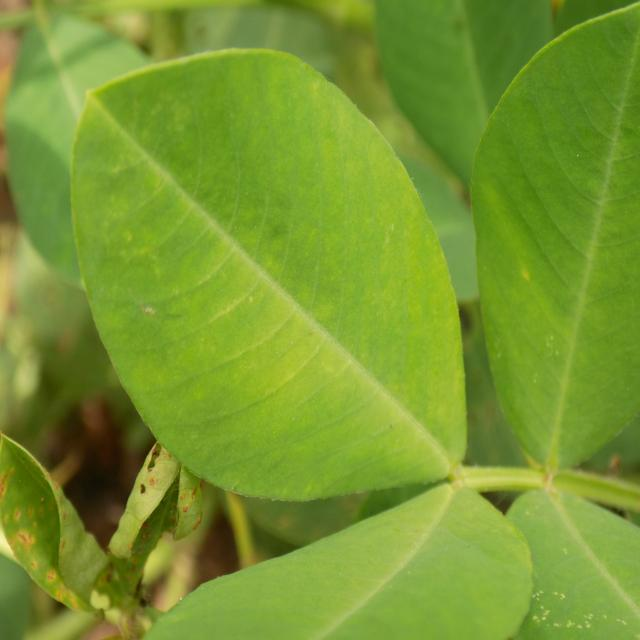Ground nut_healthy: (80, 50, 468, 495)
